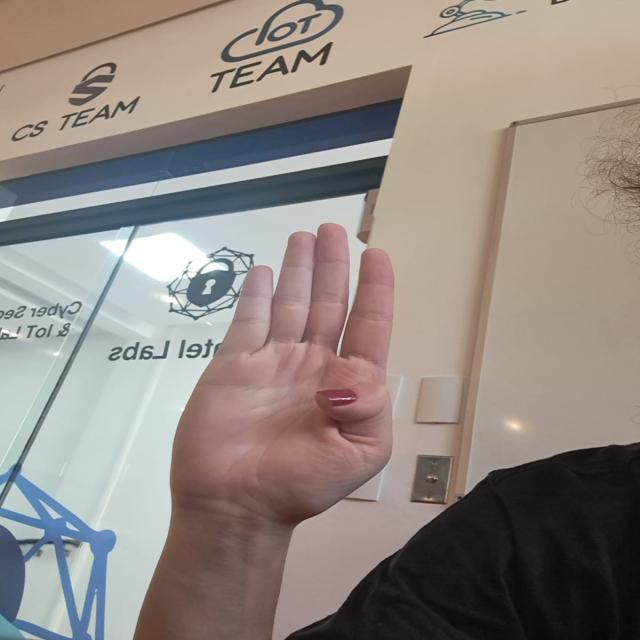B: (157, 210, 451, 582)
